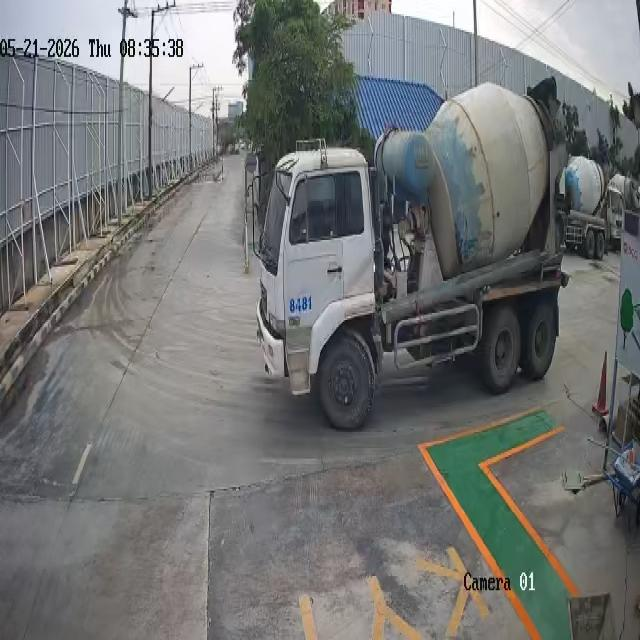cement_mixer_truck: (253, 76, 568, 428), (568, 160, 606, 255), (611, 169, 640, 213), (607, 191, 623, 242)
